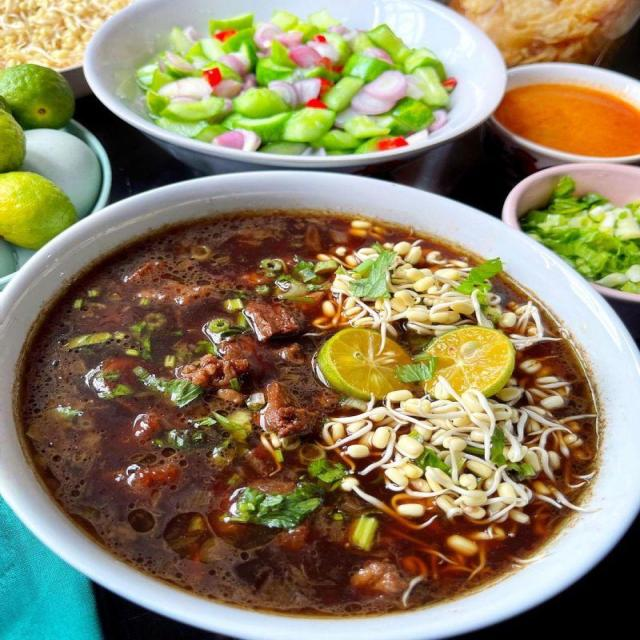Rawon: (19, 210, 577, 594)
